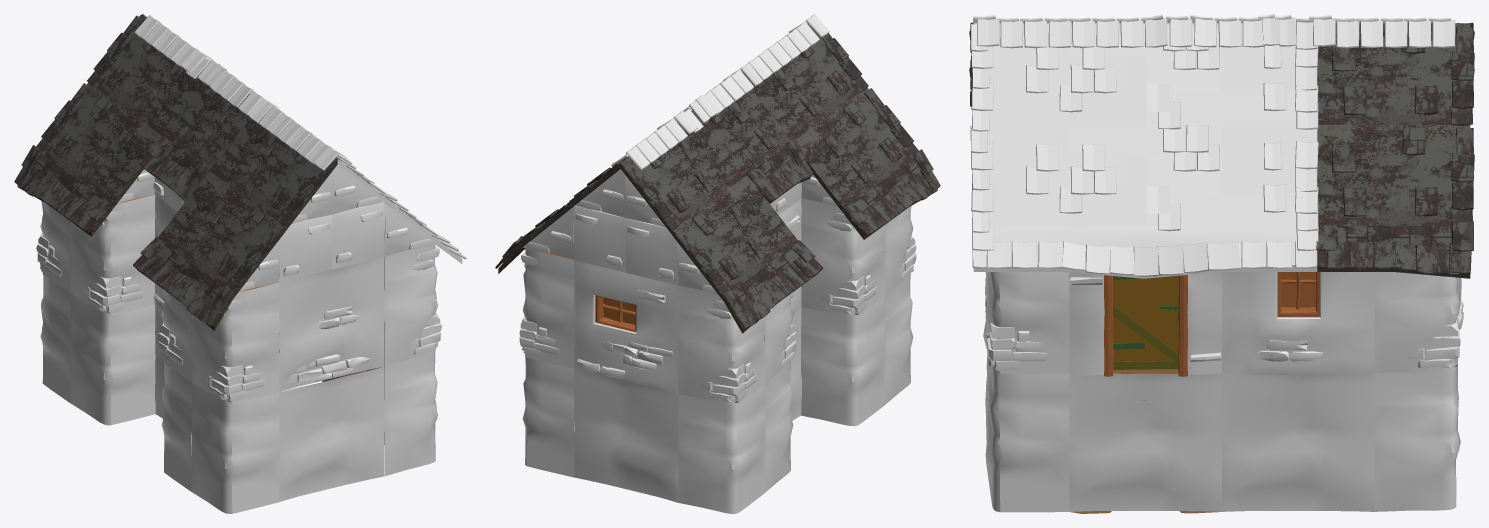
Rendered from Modular_house_2.fbx.
3 views of the same model, side by side, from view 1: azimuth 30°, elevation 25°; view 2: azimuth 150°, elevation 25°; view 3: azimuth 270°, elevation 25° (orthographic). The views are drawn at different scales.
Parts seen in each view (by area): view 1: underground.005, wall.026, underground.006, underground.008, roof.025, roof.027, wall.030, roof.026, roof.028, wall.028, underground.004, wall.025 (+26 smaller); view 2: underground.010, underground.009, underground, wall.023, roof.027, roof.025, roof.026, wall.027, roof.028, wall.031, underground.001, wall.024 (+25 smaller); view 3: roof.018, roof.019, underground.003, underground.002, Roof_long_strip_low.010, roof.021, wall.022, roof.022, underground.001, underground.004, roof.023, Roof_long_strip_low.011 (+11 smaller).
Part boxes in pixels (left/top/right/bottom): underground.005: left=279, top=367, right=384, bottom=501; wall.026: left=279, top=257, right=384, bottom=392; underground.006: left=192, top=382, right=279, bottom=513; underground.008: left=70, top=294, right=155, bottom=425; roof.025: left=36, top=82, right=162, bottom=210; roof.027: left=158, top=171, right=285, bottom=299; wall.030: left=192, top=282, right=279, bottom=404; roof.026: left=87, top=15, right=205, bottom=136; roof.028: left=210, top=118, right=337, bottom=231; wall.028: left=71, top=194, right=155, bottom=315; underground.004: left=384, top=352, right=437, bottom=476; wall.025: left=384, top=244, right=437, bottom=366; underground.010: left=574, top=369, right=678, bottom=502; underground.009: left=678, top=384, right=764, bottom=513; underground: left=801, top=297, right=885, bottom=426; wall.023: left=574, top=260, right=678, bottom=393; roof.027: left=796, top=87, right=918, bottom=213; roof.025: left=672, top=175, right=797, bottom=301; roof.026: left=620, top=110, right=746, bottom=234; wall.027: left=678, top=285, right=764, bottom=405; roof.028: left=743, top=25, right=868, bottom=139; wall.031: left=801, top=198, right=885, bottom=317; underground.001: left=522, top=356, right=574, bottom=477; wall.024: left=522, top=248, right=574, bottom=368; roof.018: left=970, top=125, right=1318, bottom=233; roof.019: left=970, top=23, right=1318, bottom=131; underground.003: left=1222, top=373, right=1374, bottom=511; underground.002: left=1069, top=373, right=1221, bottom=511; Roof_long_strip_low.010: left=972, top=224, right=1318, bottom=278; roof.021: left=1317, top=125, right=1474, bottom=226; wall.022: left=1222, top=272, right=1374, bottom=374; roof.022: left=1317, top=23, right=1474, bottom=125; underground.001: left=1374, top=366, right=1460, bottom=511; underground.004: left=985, top=366, right=1069, bottom=512; roof.023: left=973, top=14, right=1317, bottom=49; Roof_long_strip_low.011: left=1316, top=221, right=1473, bottom=278.
Bounding box in the file's own units: 496 × 625 × 662.
